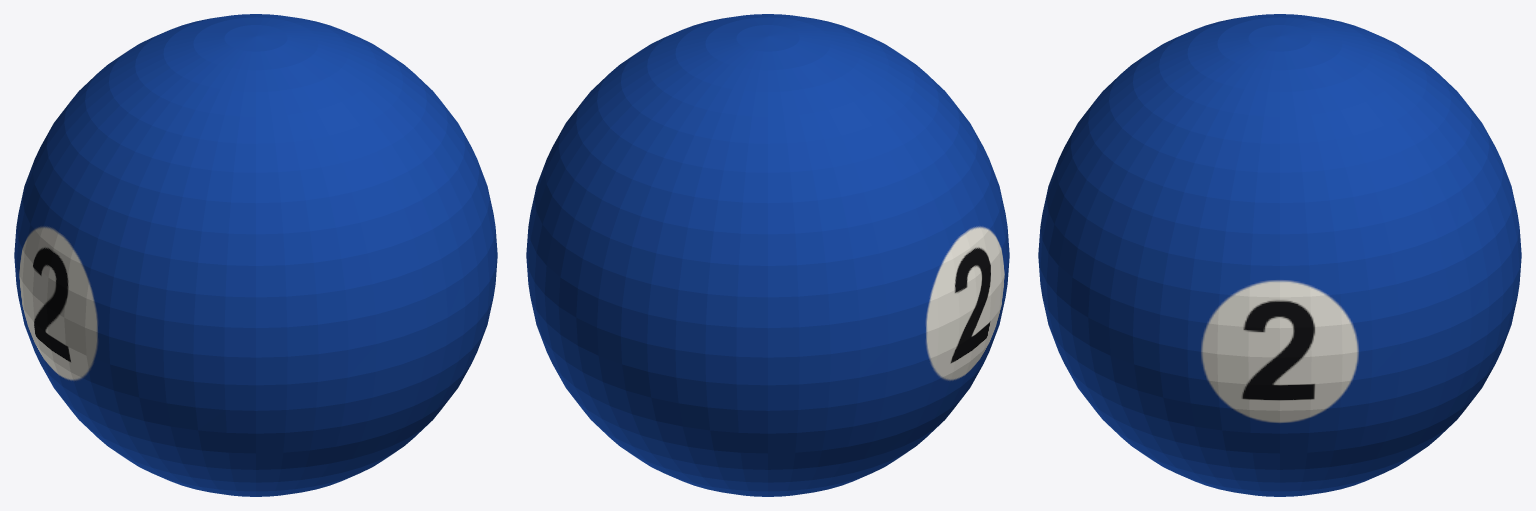
File: ball_2.obj
The picture shows the model from 3 angles, left to right: view 1: azimuth 30°, elevation 25°; view 2: azimuth 150°, elevation 25°; view 3: azimuth 270°, elevation 25°; orthographic projection.
Size of the model in its own units: 0.0571 by 0.0571 by 0.0571.
1 material, 1 textured.
